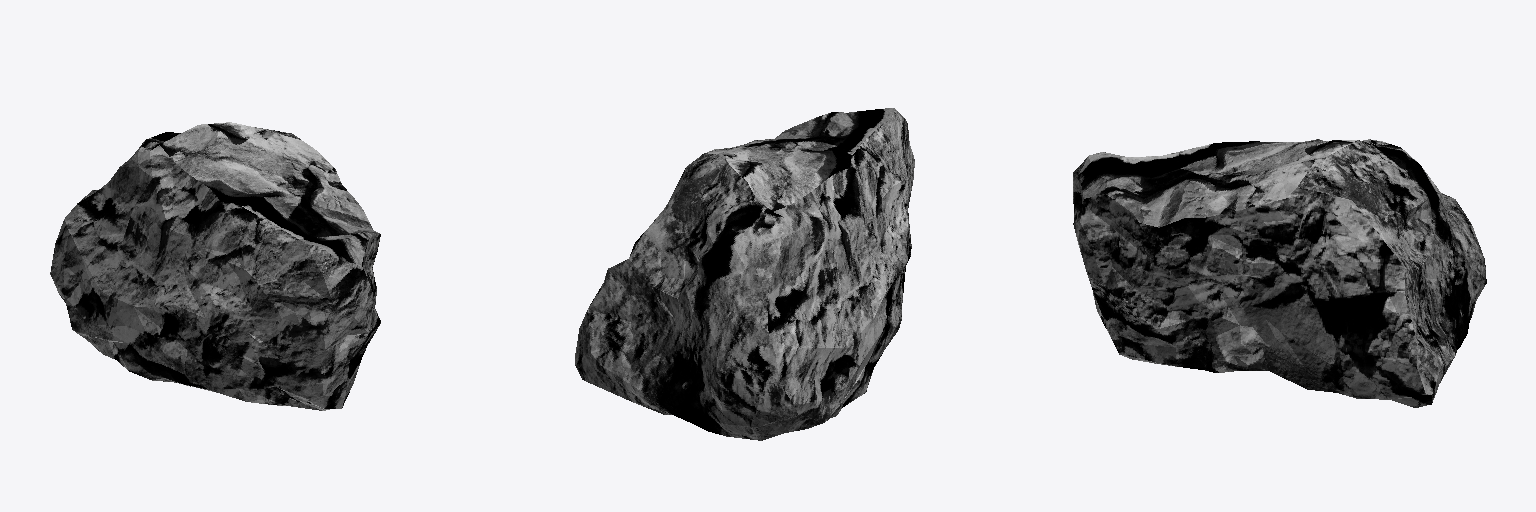
3 renders of one model, left to right at view 1: azimuth 30°, elevation 25°; view 2: azimuth 150°, elevation 25°; view 3: azimuth 270°, elevation 25°, orthographic.
Parts seen in each view (by area): view 1: rock; view 2: rock; view 3: rock.
Boxes of the visible parts, x1=… form: rock: x1=50, y1=122, x2=380, y2=410; rock: x1=575, y1=108, x2=914, y2=440; rock: x1=1073, y1=139, x2=1486, y2=407.
Size of the model in its own units: 6.75 by 5.89 by 10.03.
1 materials, 1 textured.